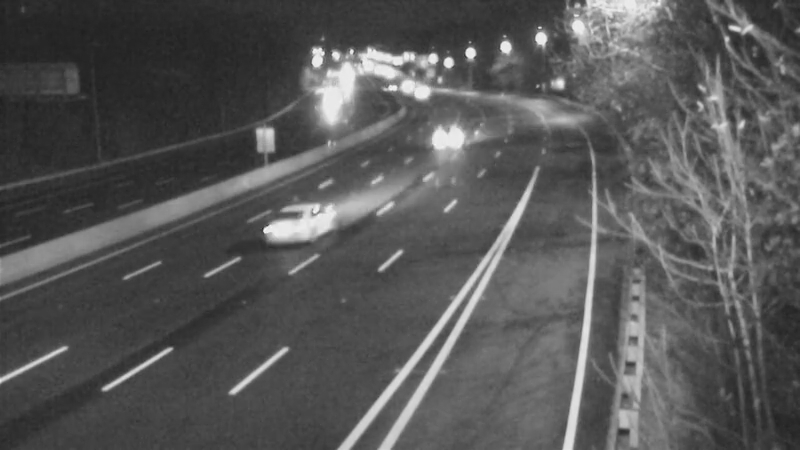vehicle: (256, 194, 336, 274), (385, 60, 435, 110), (367, 63, 417, 113), (400, 67, 450, 117), (422, 110, 472, 160)
